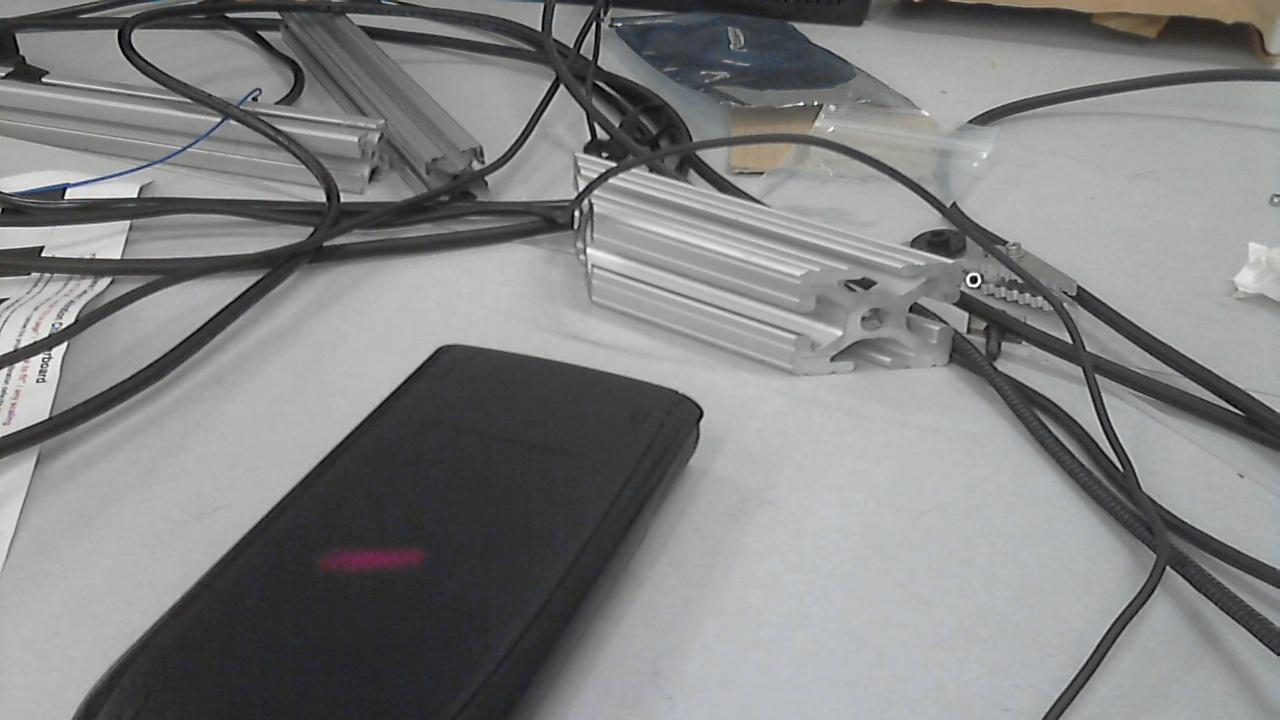Object graphing calculator slide case - Material plastic - Pdfname as1D2765rACT: (302, 532, 471, 587)
